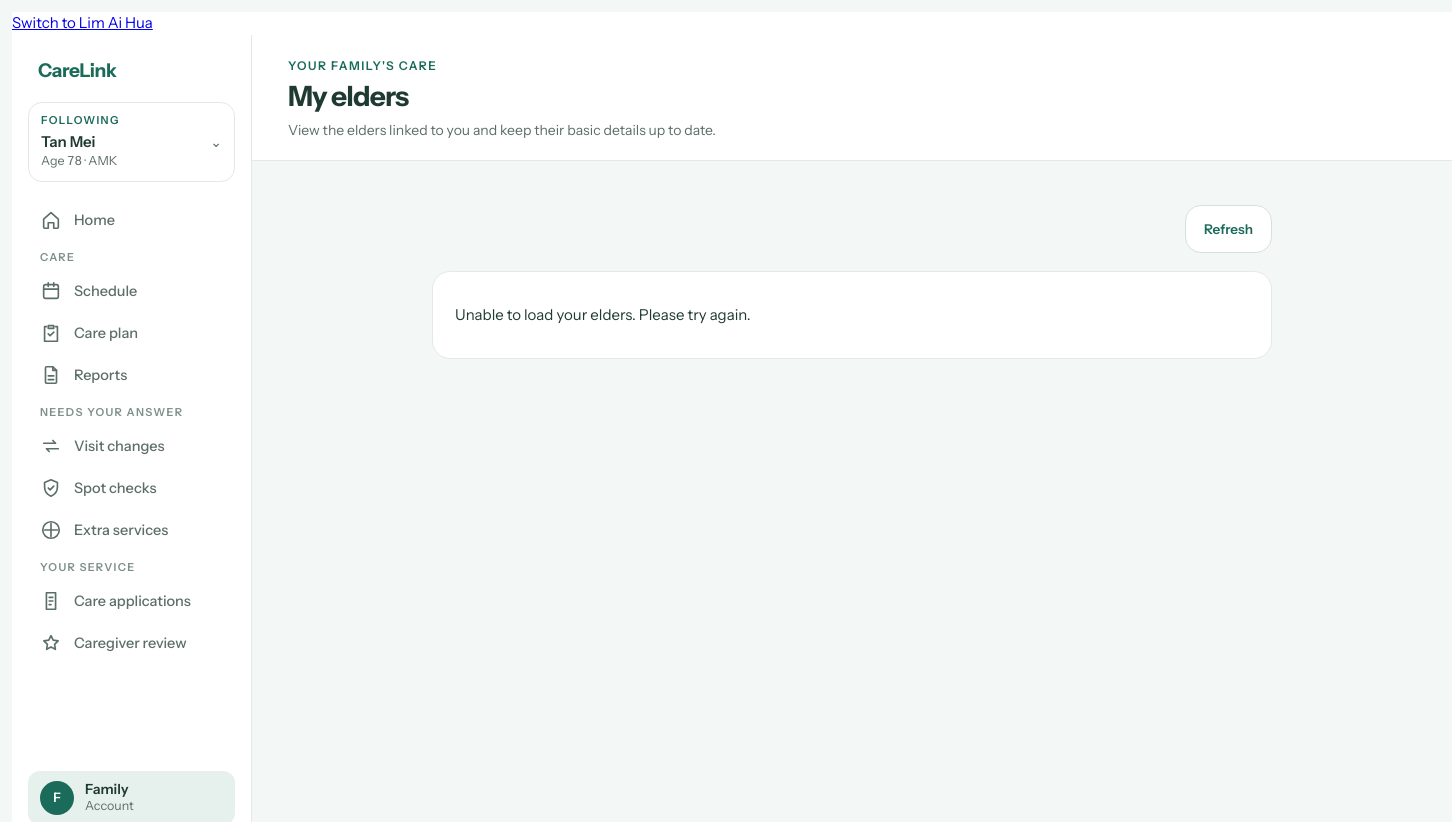
Scenario: My elders and basic details › shows an error and retries the elder list
Expected: the message shows "Unable to load your elders", 455,305 -> 750,324
Click the button "Refresh": {"x": 1228, "y": 229} 1185,205 -> 1272,253
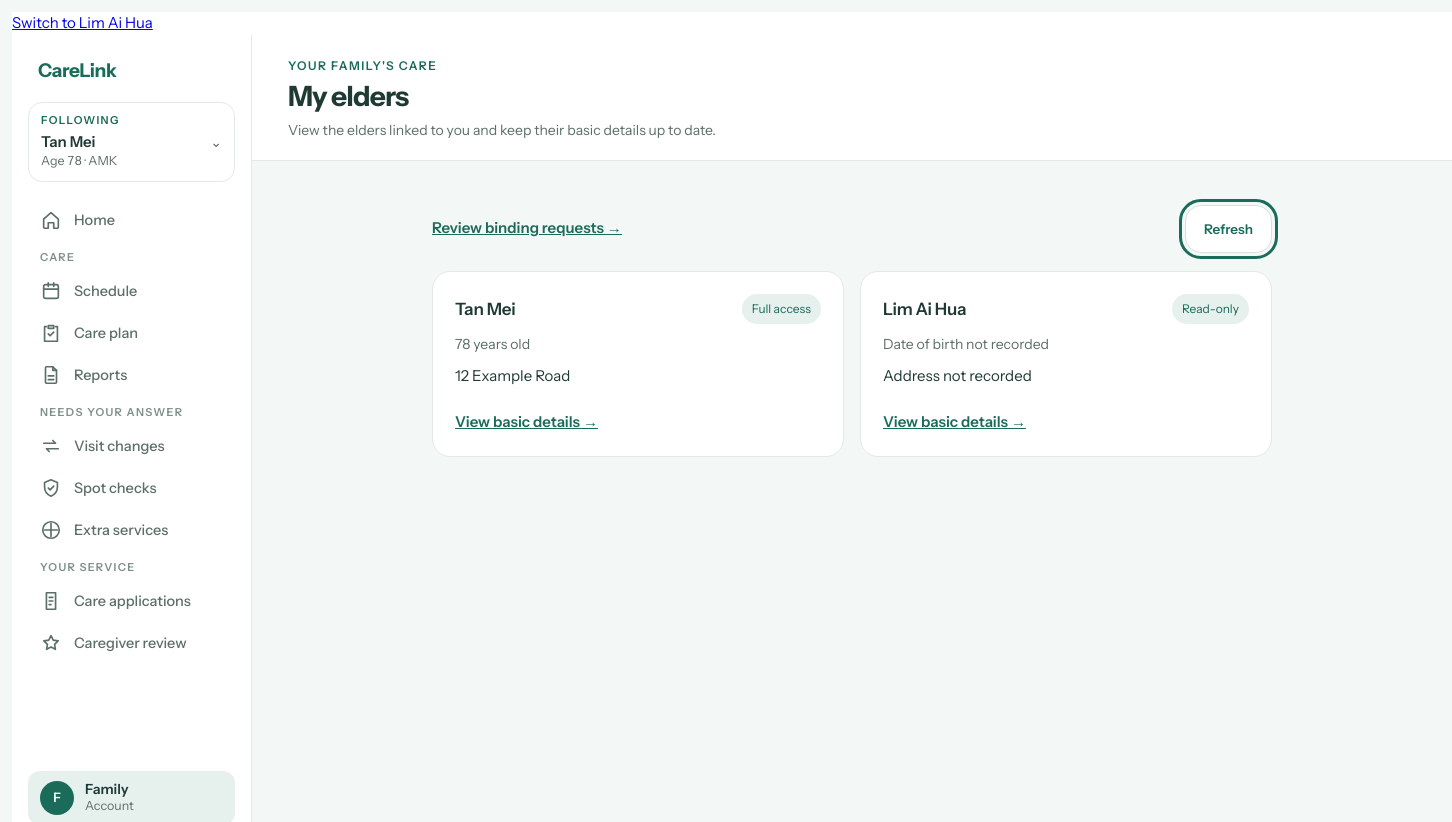
Expected: the heading "Tan Mei" is shown, 455,298 -> 516,320
